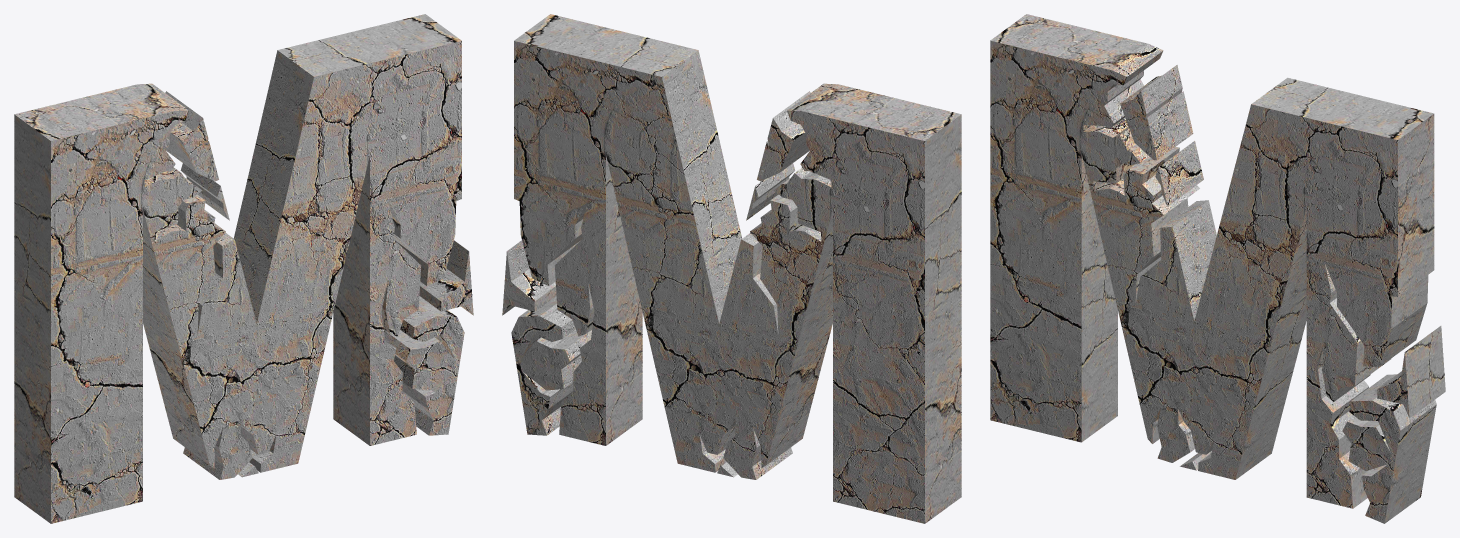
3 views of the same model, side by side, from view 1: azimuth 30°, elevation 25°; view 2: azimuth 150°, elevation 25°; view 3: azimuth 330°, elevation 25° (orthographic).
Parts seen in each view (by area): view 1: M; view 2: M; view 3: M.
Part boxes in pixels (x1,y1,x2,y2): M: [14, 14, 473, 523]; M: [502, 14, 961, 523]; M: [990, 14, 1445, 523].
Size of the model in its own units: 99.79 by 88.06 by 15.
1 material, 1 textured.
